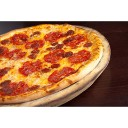pepperonipizza: (2, 21, 110, 107)
